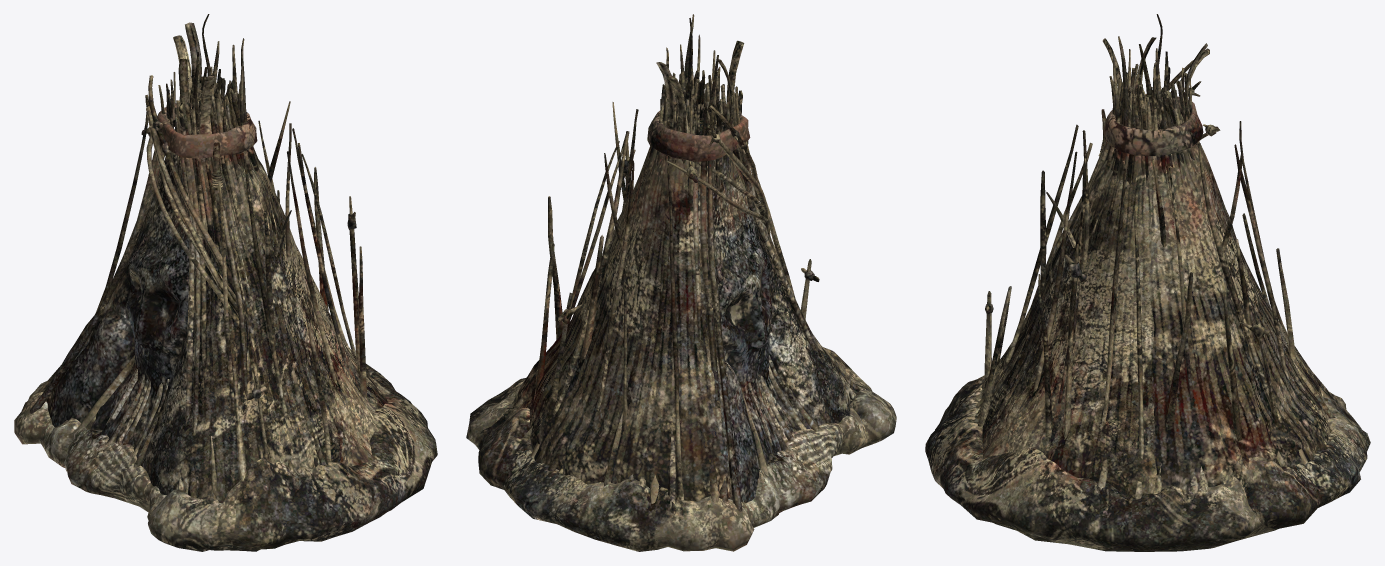
Rendered from fetish_large_tent.DAE.
3 renders of one model, left to right at view 1: azimuth 30°, elevation 25°; view 2: azimuth 150°, elevation 25°; view 3: azimuth 270°, elevation 25°, orthographic.
Parts seen in each view (by area): view 1: default; view 2: default; view 3: default.
Part boxes in pixels (<box>): default: <box>14,14,437,551</box>; default: <box>466,14,896,551</box>; default: <box>925,14,1370,551</box>.
Size of the model in its own units: 0.4586 by 0.5453 by 0.6175.
